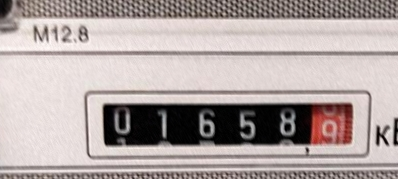0: (111, 104, 131, 135)
1: (154, 107, 171, 139)
5: (236, 108, 257, 139)
6: (196, 106, 216, 139)
8: (277, 105, 297, 137)
9: (317, 118, 338, 146)
screen: (74, 80, 375, 166)
